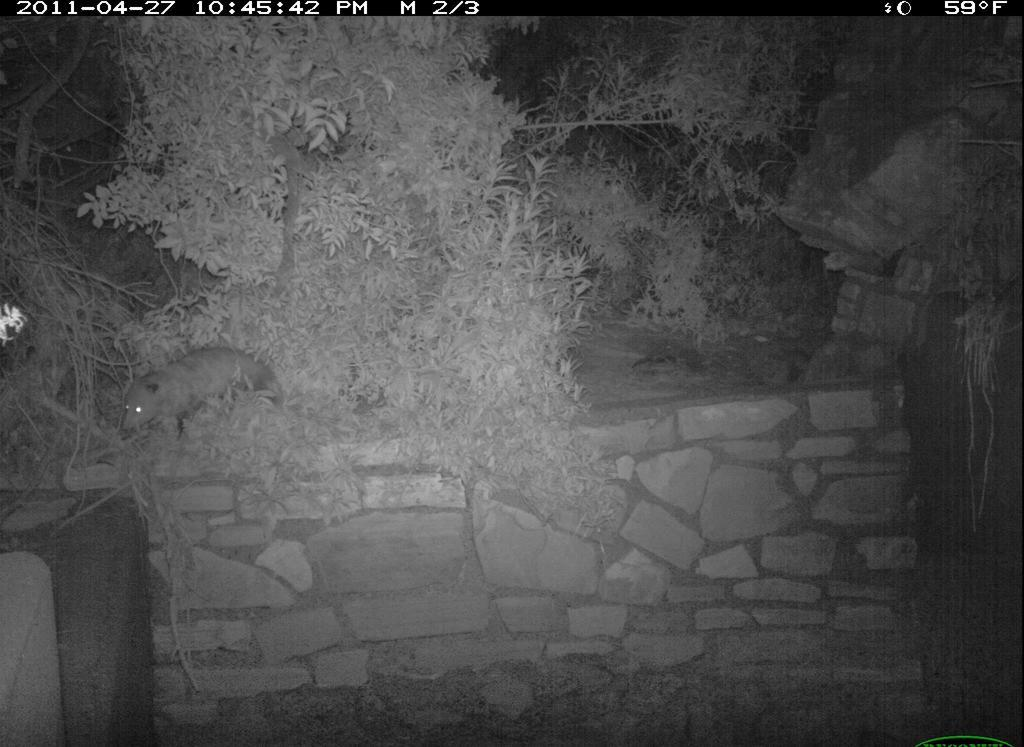opossum: (111, 342, 296, 456)
